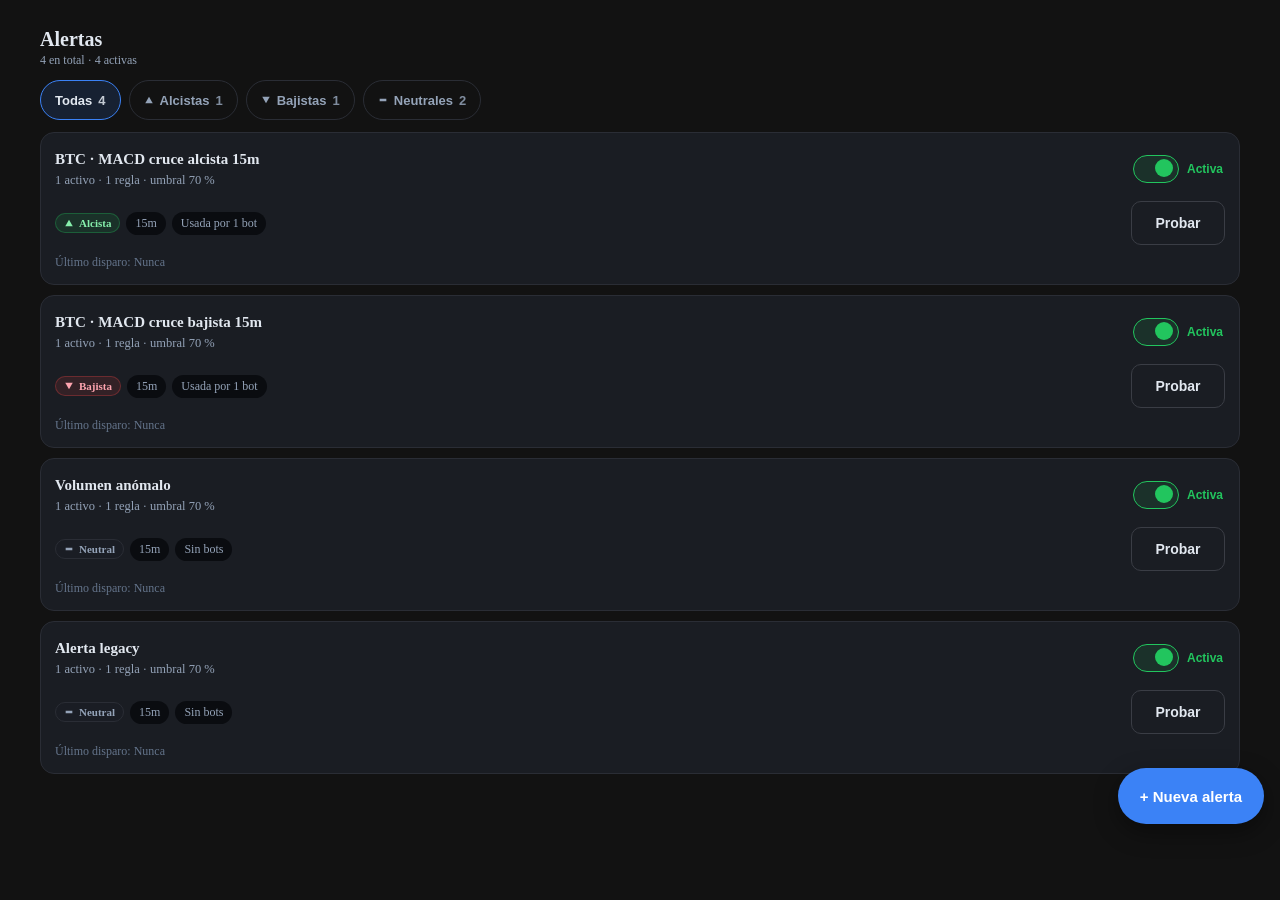
Scenario: AlertsPage · dirección (móvil) › lista a pantalla completa → editor con volver, selector apilado y CTA fijo
Expected: the text "Alerta legacy" is shown, [55,639,140,658]
Expected: the element "Dirección de la señal" is not shown
Step 1. Click the button "BTC · MACD cruce alcista 15m" → point(157, 159), box [55,150,1121,188]
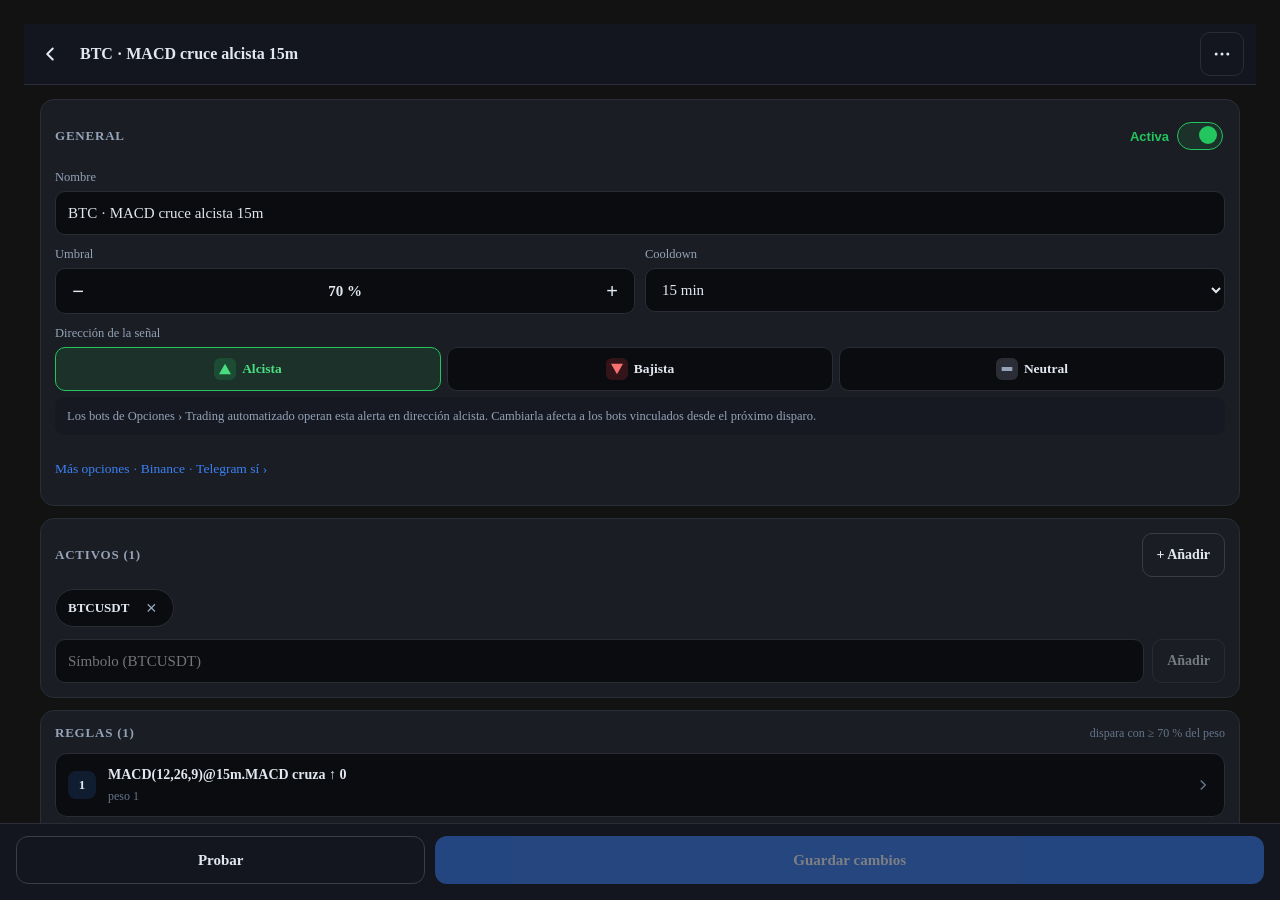
Expected: the 3rd icon is shown, [217,361,233,377]
Now the button "Alerta legacy" is gone
Step 2. Click the button named "Volver a alertas" → point(50, 54), box [28,32,72,76]
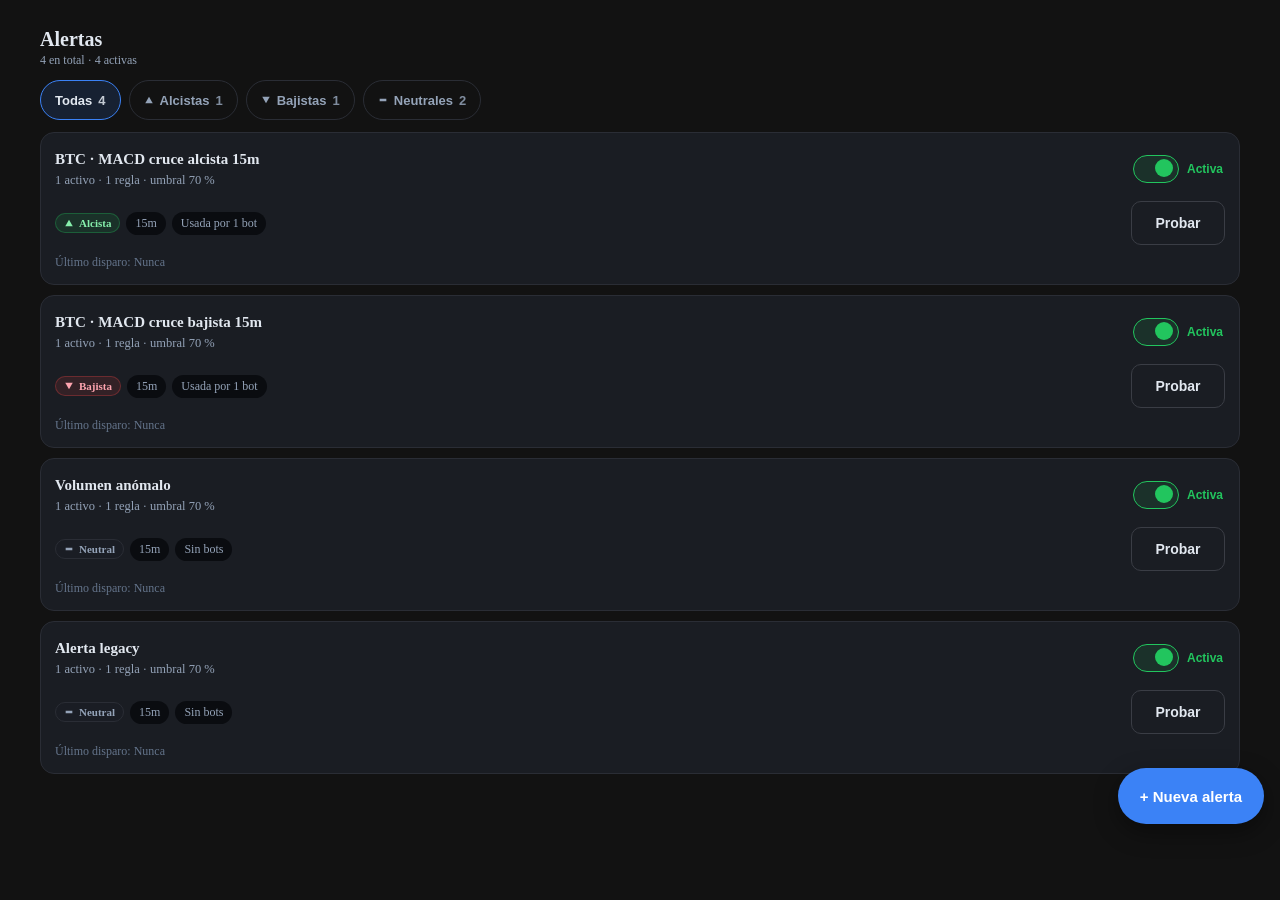
Now the text "Alerta legacy" is shown, box [55,639,140,658]
